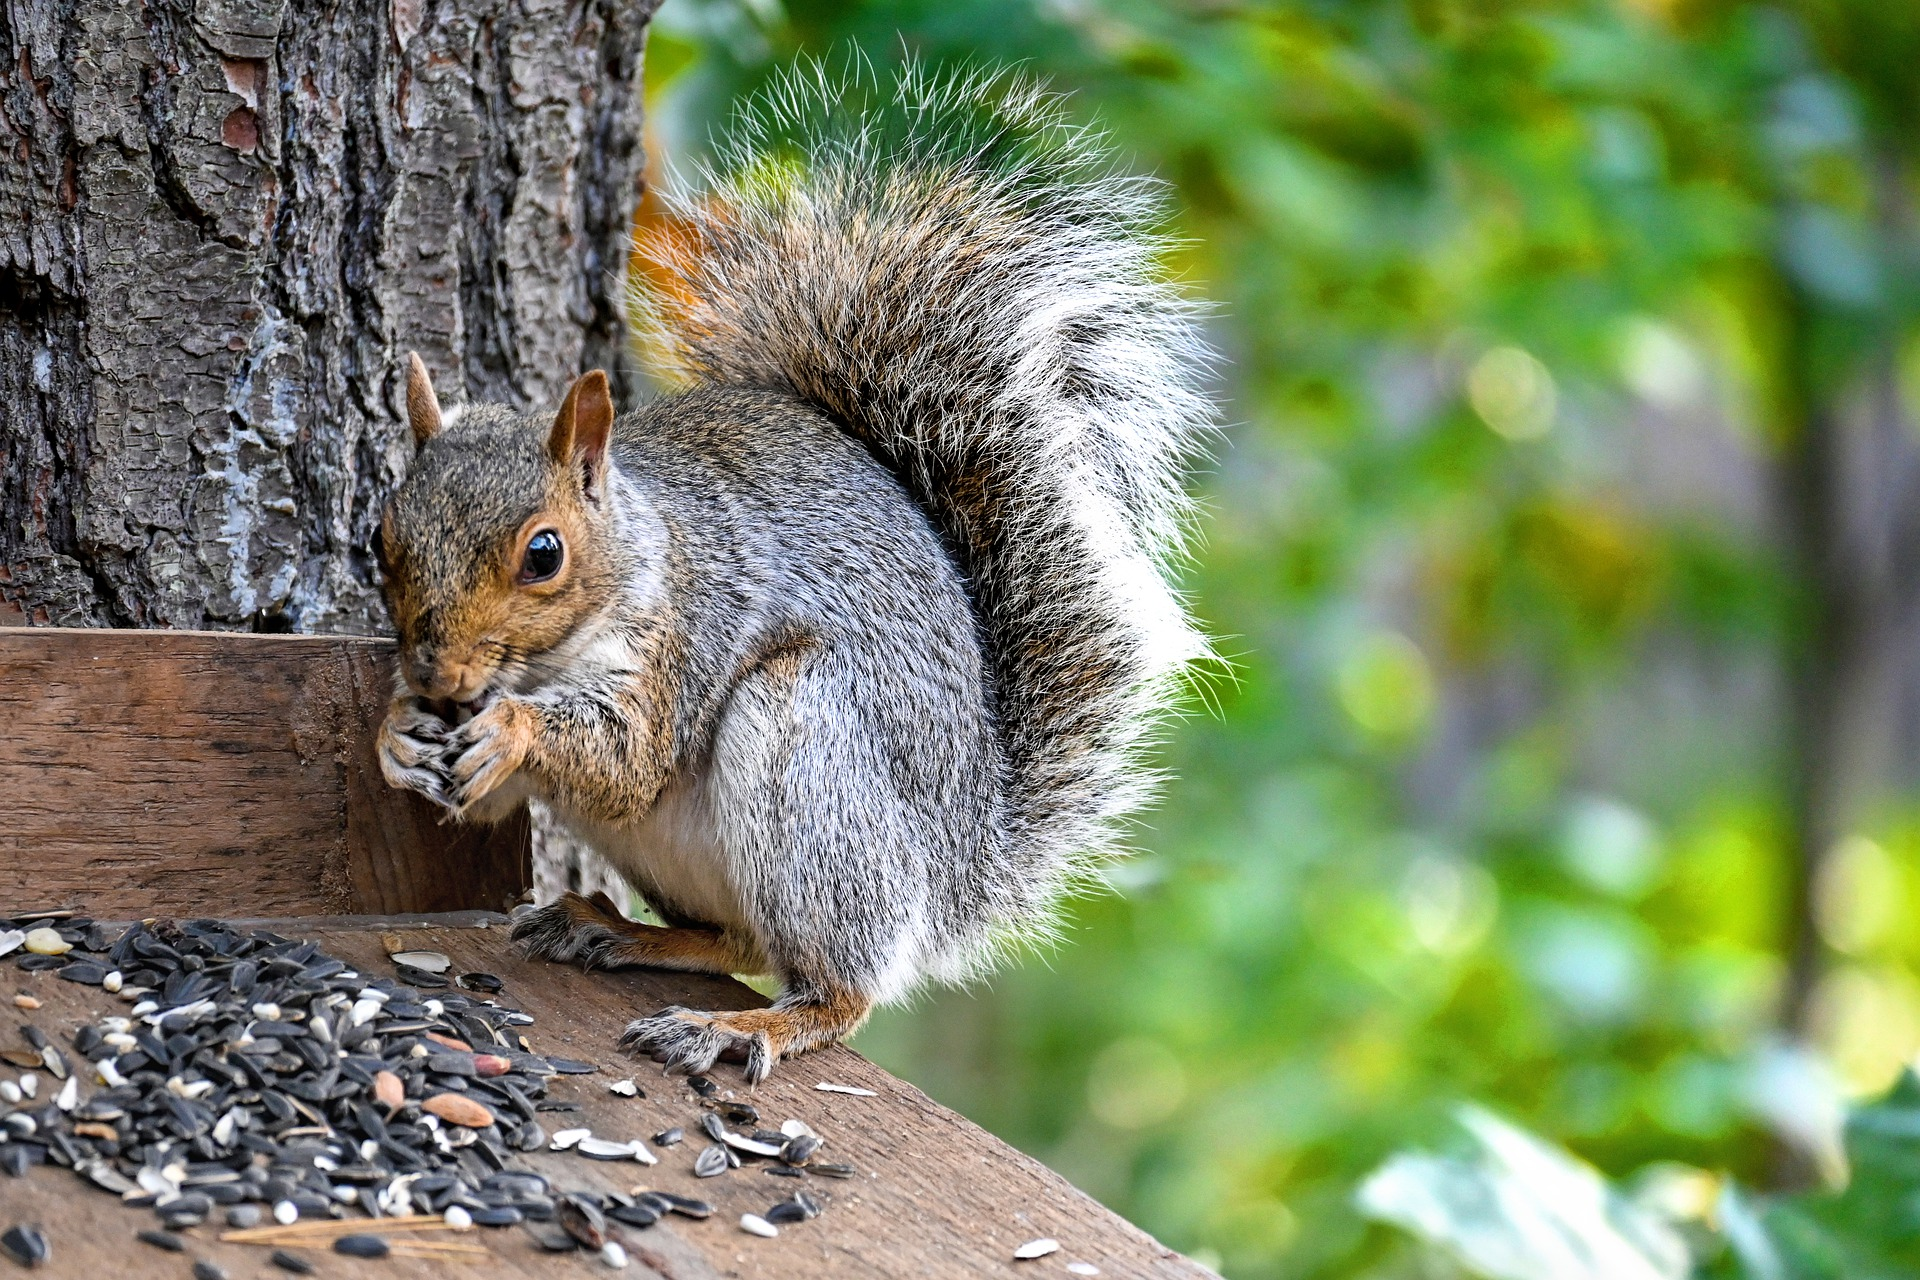squirrel: (367, 44, 1194, 1086)
